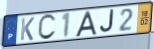1: (61, 12, 72, 40)
2: (118, 8, 136, 33)
A: (74, 10, 99, 39)
C: (37, 13, 57, 42)
J: (98, 9, 115, 35)
K: (19, 16, 36, 42)
